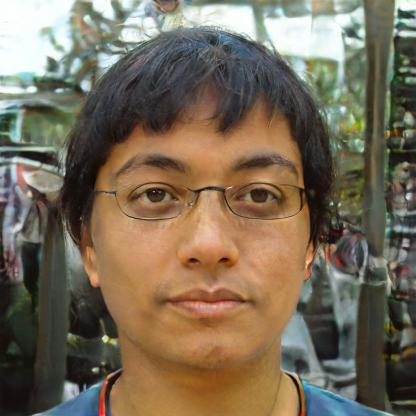glasses: (101, 178, 315, 226)
